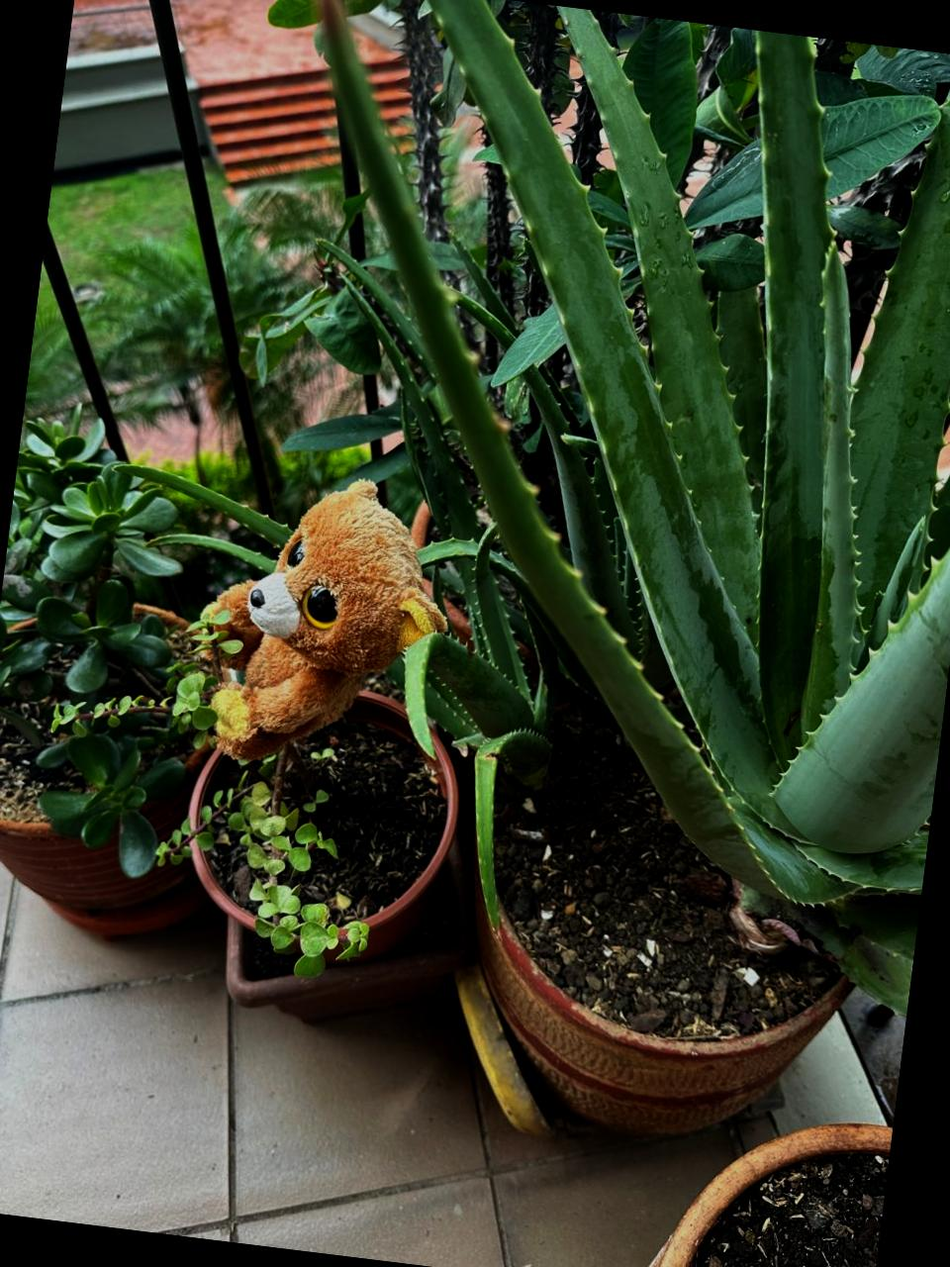peluche_sebastian: (174, 461, 463, 785)
